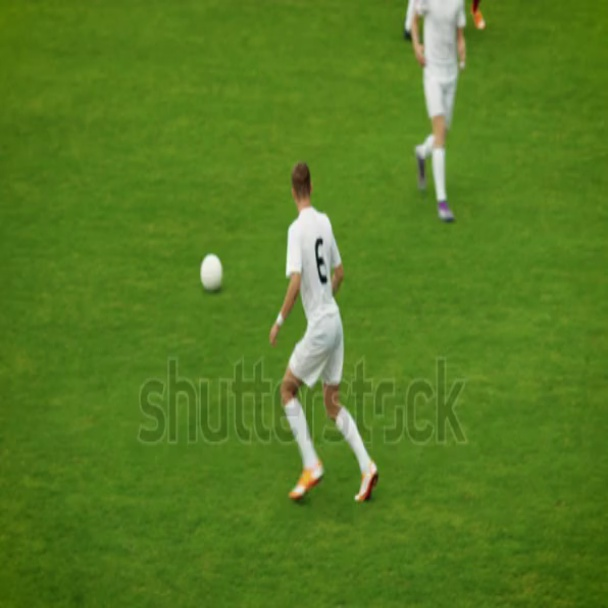ball: (203, 253, 221, 283)
